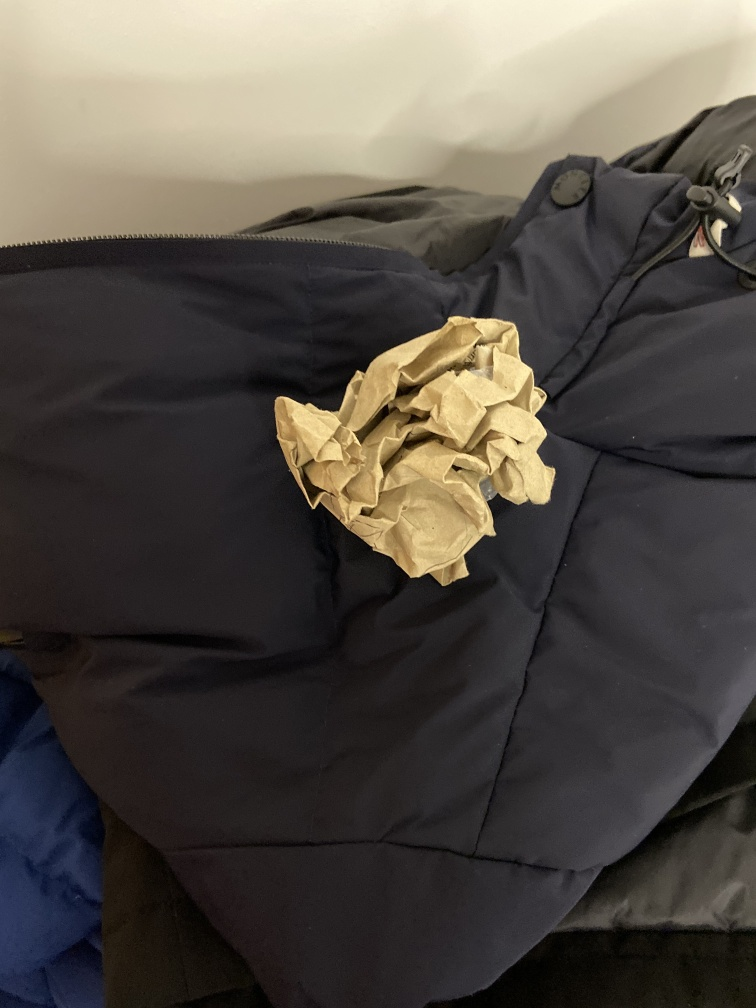paper_brown: (269, 305, 565, 599)
